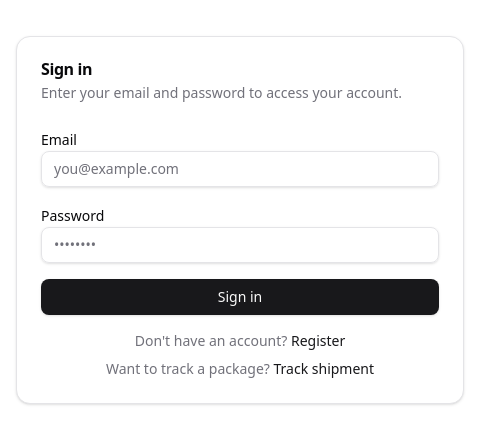
it: LoginPage › shows validation error for empty fields on submit
Click the button "Sign in" at (240, 297), box [41, 279, 439, 315]
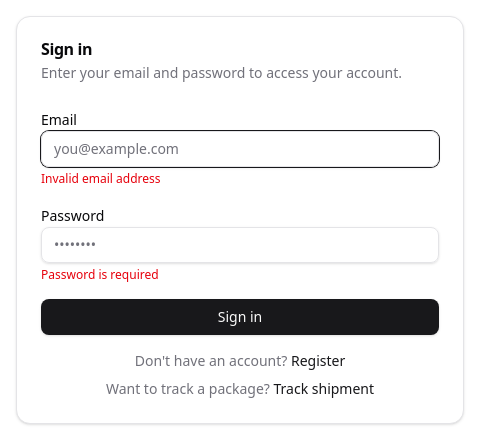
Result: the text "Invalid email address" is shown at [41, 170, 160, 187]
